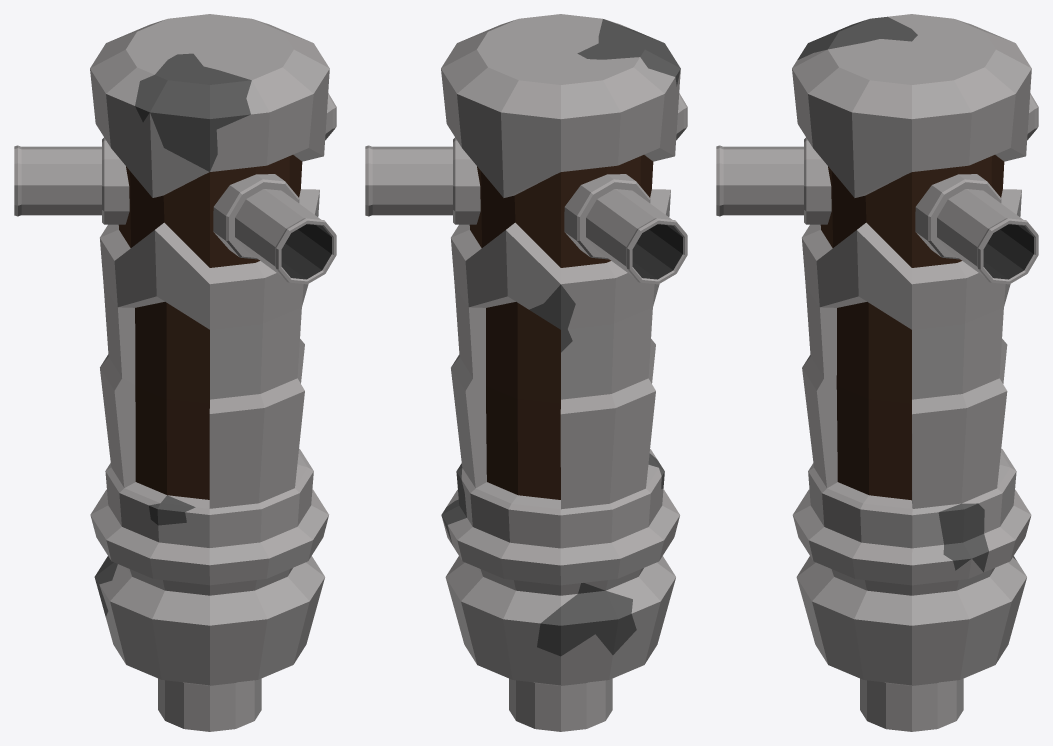
Rendered from SpinningFlameTrap_1.fbx.
The picture shows the model from 3 angles, left to right: view 1: azimuth 30°, elevation 25°; view 2: azimuth 150°, elevation 25°; view 3: azimuth 270°, elevation 25°; orthographic projection.
Parts seen in each view (by area): view 1: SpinningFlameTrap_1; view 2: SpinningFlameTrap_1; view 3: SpinningFlameTrap_1.
Boxes of the visible parts, x1,y1,x2,y2 form: SpinningFlameTrap_1: (14,14,336,731); SpinningFlameTrap_1: (365,14,687,731); SpinningFlameTrap_1: (716,14,1038,731).
Bounding box in the file's own units: 67.59 × 132 × 58.54.
